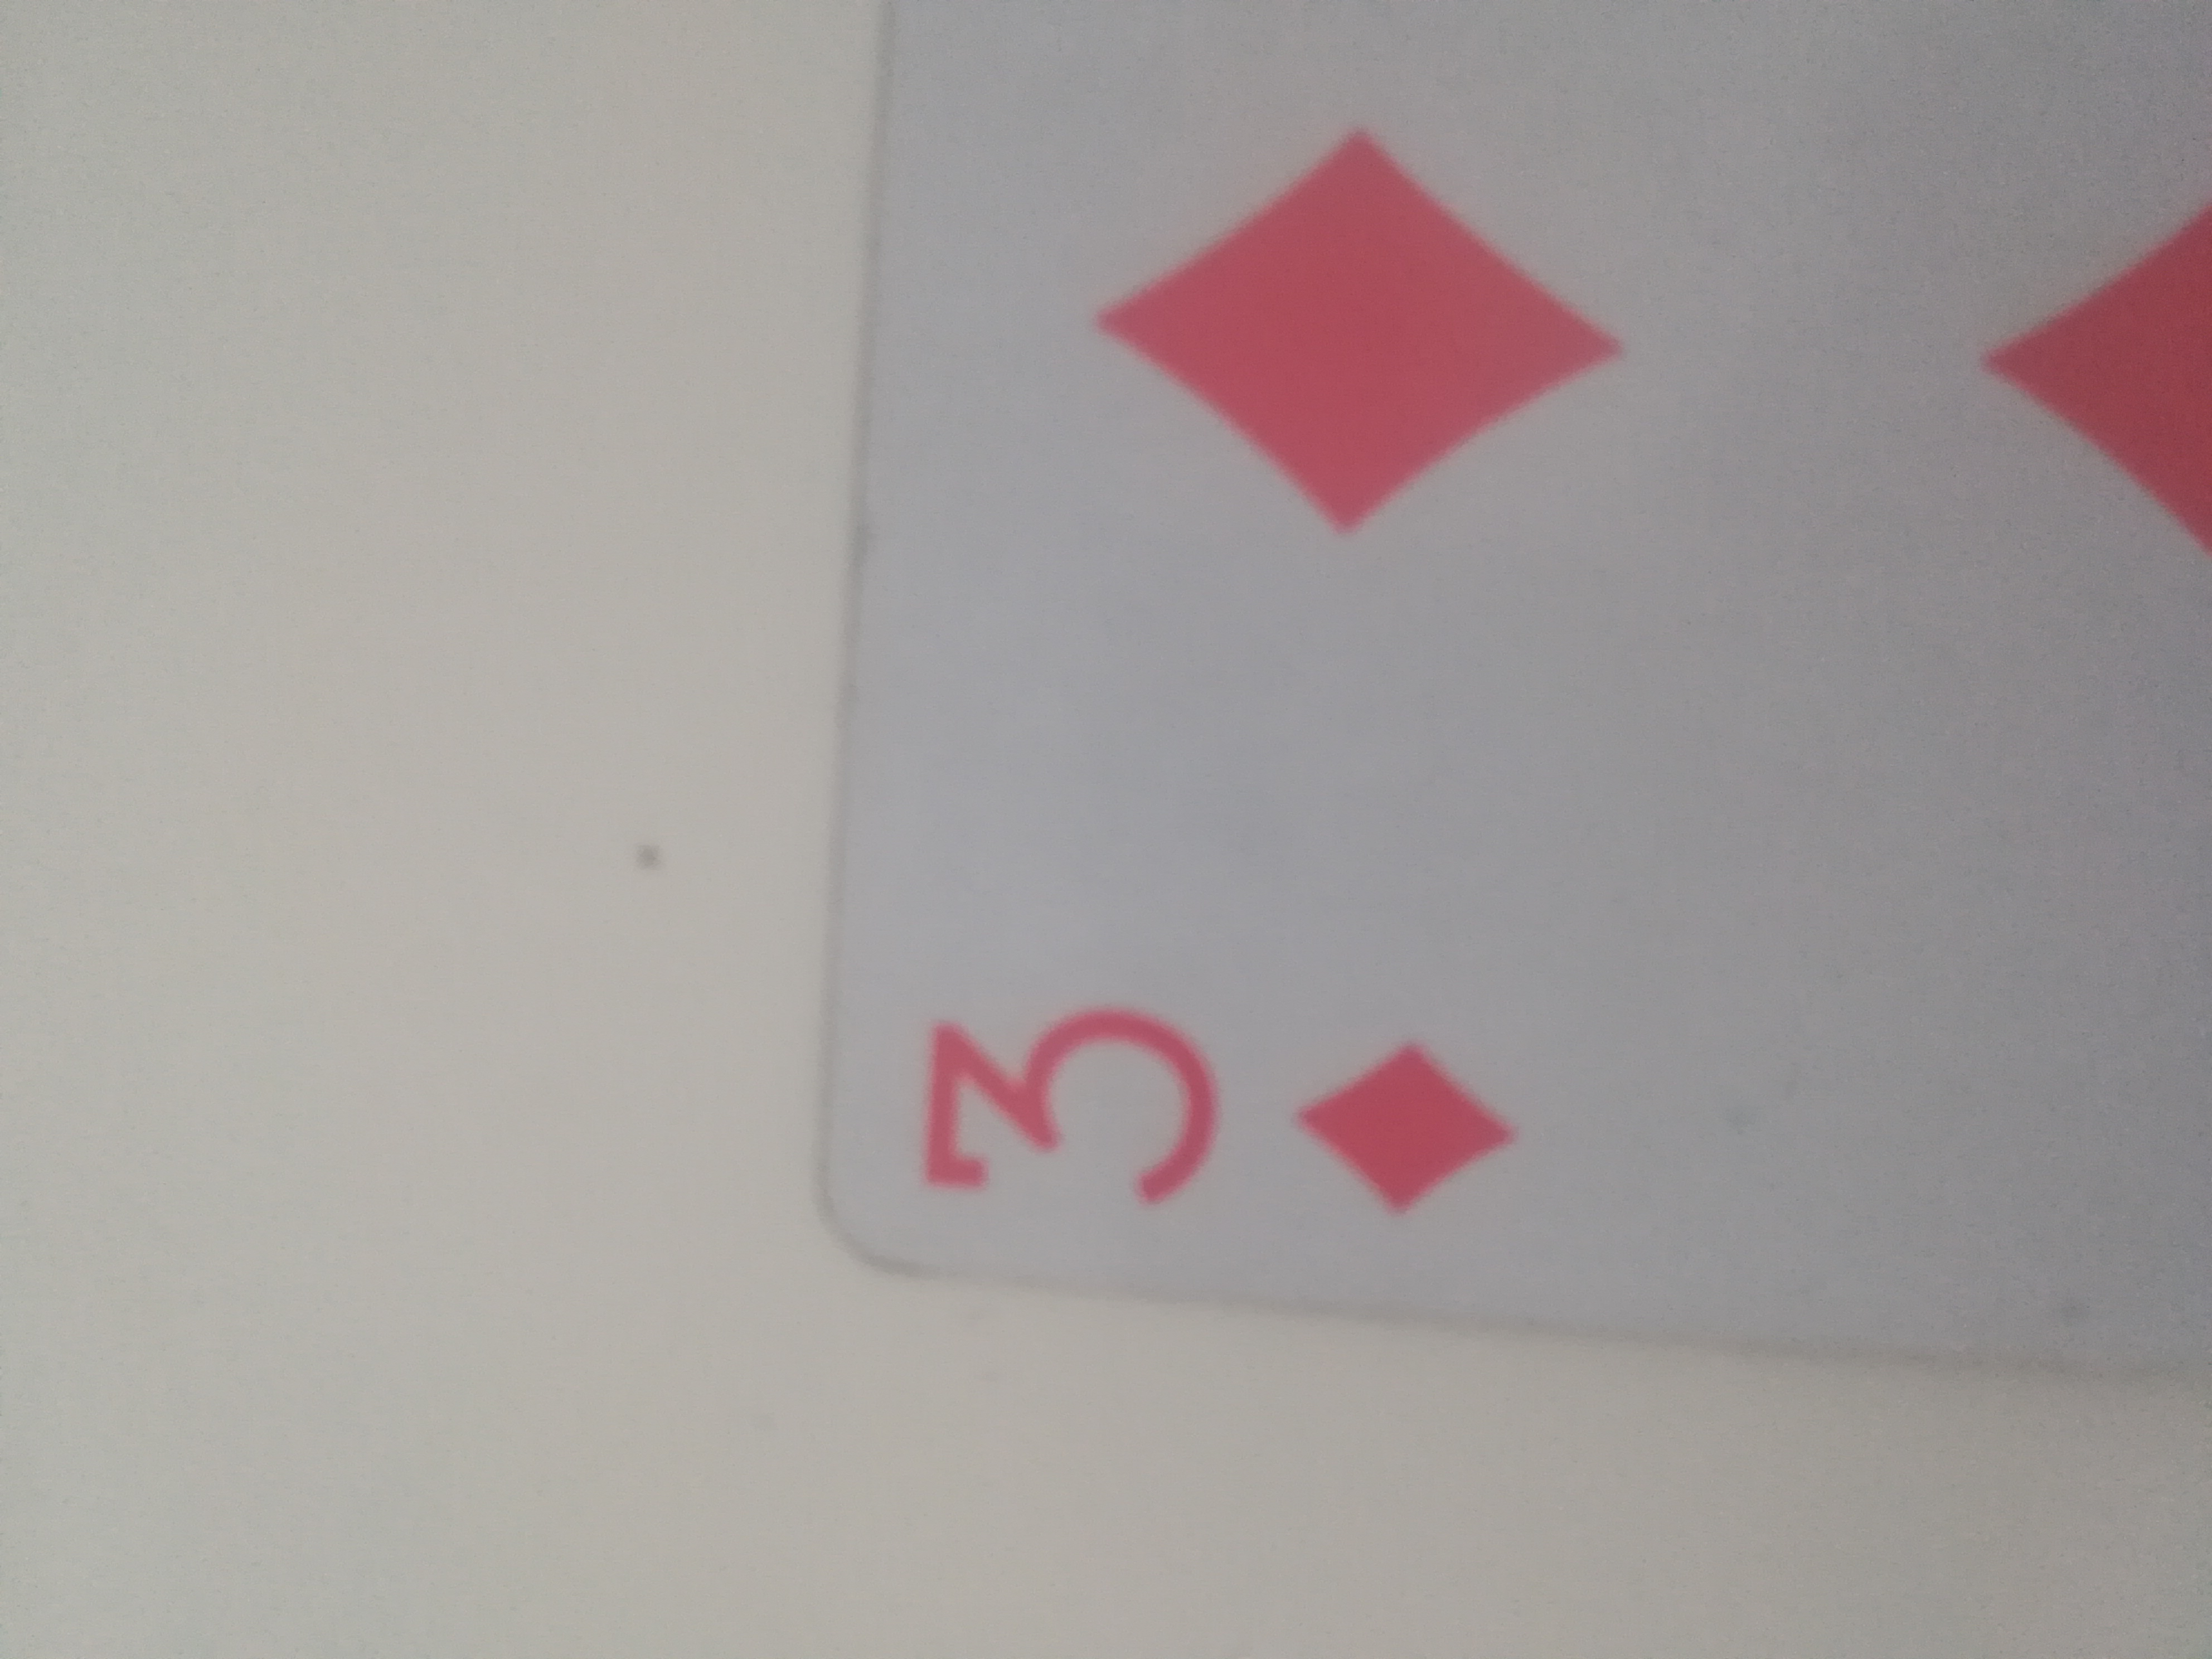3D: (826, 0, 2210, 1373)
